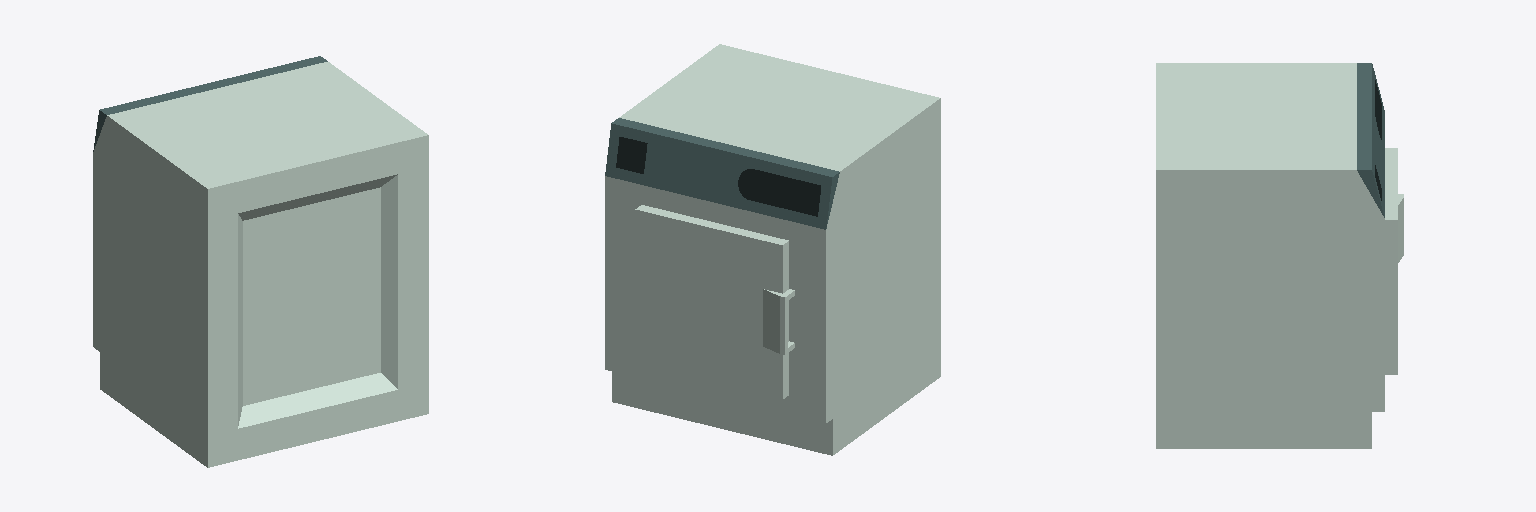
Rendered from dryer.obj.
3 views of the same model, side by side, from view 1: azimuth 30°, elevation 25°; view 2: azimuth 150°, elevation 25°; view 3: azimuth 270°, elevation 25° (orthographic).
Parts seen in each view (by area): view 1: dryer; view 2: dryer, dryerDoor; view 3: dryer, dryerDoor.
Boxes of the visible parts, x1,y1,x2,y2 form: dryer: [93, 56, 428, 467]; dryer: [605, 44, 940, 455]; dryerDoor: [635, 205, 794, 399]; dryer: [1156, 63, 1384, 448]; dryerDoor: [1385, 148, 1403, 374].
Bounding box in the file's own units: 3.9 × 4.7 × 3.8.